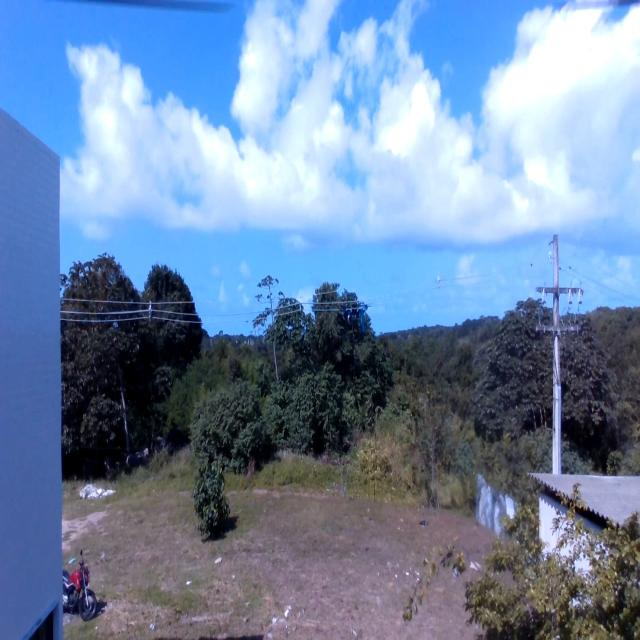-uav-: (332, 287, 375, 345)
